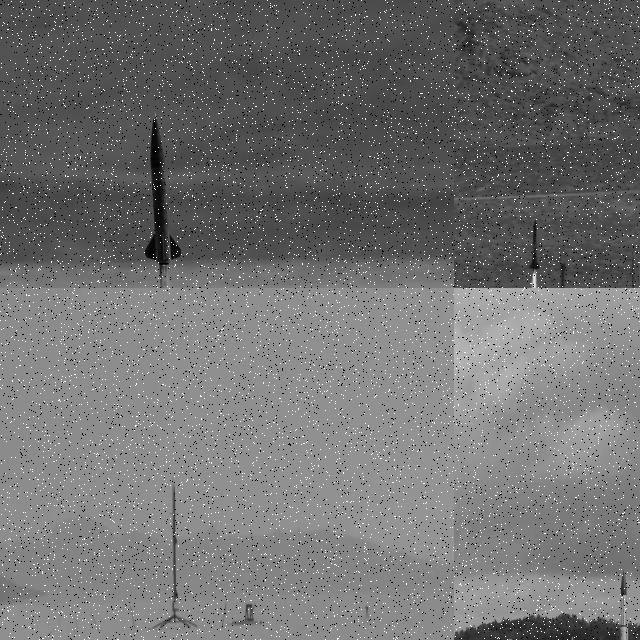Rocket: (143, 111, 183, 269), (614, 569, 630, 640), (172, 483, 179, 603), (528, 218, 541, 270)
